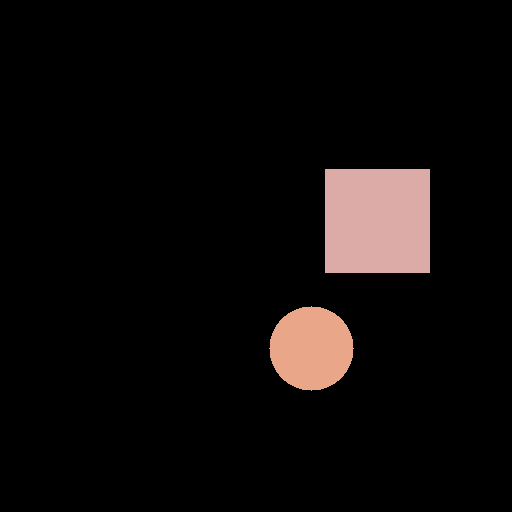circle: (269, 306, 353, 390)
square: (325, 169, 429, 272)
